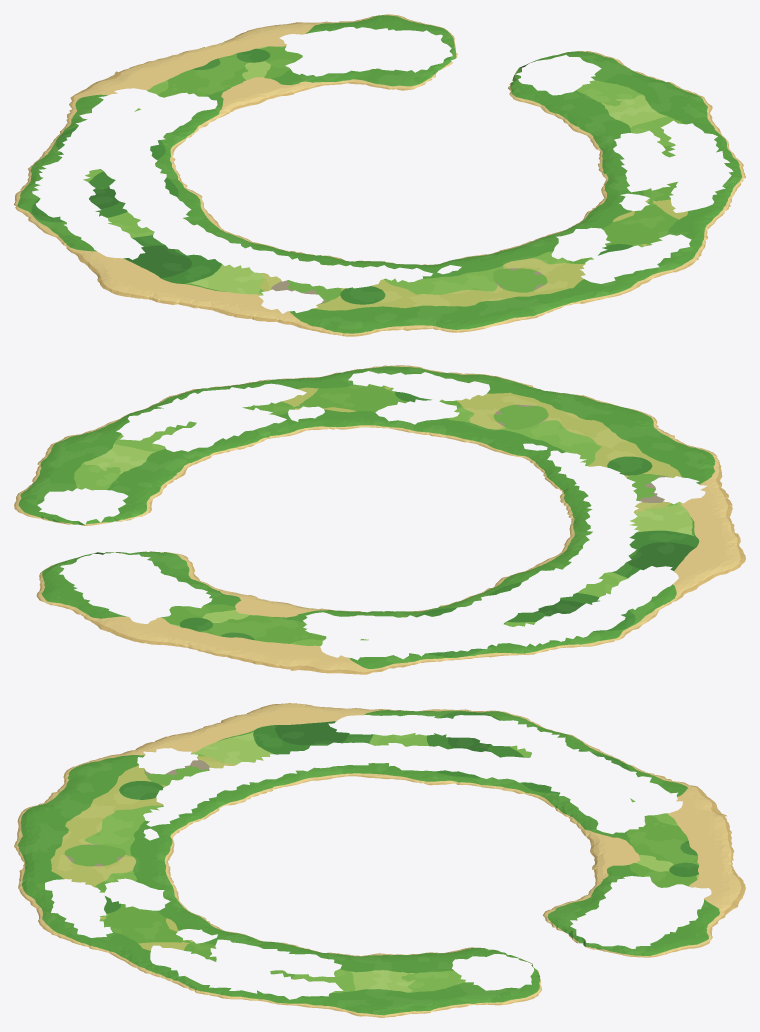
The model's file is Isl-atoll2-Ground.fbx.
The picture shows the model from 3 angles, top to bottom: view 1: azimuth 30°, elevation 25°; view 2: azimuth 150°, elevation 25°; view 3: azimuth 270°, elevation 25°; orthographic projection.
Parts seen in each view (by area): view 1: Isl-atoll2-Ground-c11, Isl-atoll2-Ground-c21, Isl-atoll2-Ground-c22, Isl-atoll2-Ground-c12, Isl-atoll2-Ground-c01, Isl-atoll2-Ground-c10, Isl-atoll2-Ground-c02, Isl-atoll2-Ground-c20; view 2: Isl-atoll2-Ground-c11, Isl-atoll2-Ground-c21, Isl-atoll2-Ground-c22, Isl-atoll2-Ground-c12, Isl-atoll2-Ground-c01, Isl-atoll2-Ground-c02, Isl-atoll2-Ground-c23, Isl-atoll2-Ground-c10; view 3: Isl-atoll2-Ground-c11, Isl-atoll2-Ground-c21, Isl-atoll2-Ground-c22, Isl-atoll2-Ground-c12, Isl-atoll2-Ground-c01, Isl-atoll2-Ground-c10, Isl-atoll2-Ground-c23, Isl-atoll2-Ground-c20, Isl-atoll2-Ground-c02, Isl-atoll2-Ground-c32.
Part boxes in pixels (x1=…): Isl-atoll2-Ground-c11: x1=83, y1=217, x2=555, y2=336; Isl-atoll2-Ground-c21: x1=493, y1=99, x2=745, y2=298; Isl-atoll2-Ground-c22: x1=215, y1=14, x2=686, y2=129; Isl-atoll2-Ground-c12: x1=15, y1=46, x2=277, y2=244; Isl-atoll2-Ground-c01: x1=71, y1=246, x2=160, y2=302; Isl-atoll2-Ground-c10: x1=441, y1=298, x2=564, y2=332; Isl-atoll2-Ground-c02: x1=14, y1=195, x2=88, y2=252; Isl-atoll2-Ground-c20: x1=556, y1=278, x2=651, y2=305; Isl-atoll2-Ground-c11: x1=475, y1=393, x2=740, y2=592; Isl-atoll2-Ground-c21: x1=69, y1=365, x2=538, y2=475; Isl-atoll2-Ground-c22: x1=14, y1=445, x2=260, y2=644; Isl-atoll2-Ground-c12: x1=195, y1=563, x2=666, y2=674; Isl-atoll2-Ground-c01: x1=667, y1=539, x2=745, y2=597; Isl-atoll2-Ground-c02: x1=593, y1=590, x2=681, y2=645; Isl-atoll2-Ground-c23: x1=90, y1=620, x2=197, y2=648; Isl-atoll2-Ground-c10: x1=539, y1=390, x2=657, y2=424; Isl-atoll2-Ground-c11: x1=32, y1=712, x2=382, y2=862; Isl-atoll2-Ground-c21: x1=32, y1=859, x2=383, y2=1008; Isl-atoll2-Ground-c22: x1=379, y1=859, x2=730, y2=1009; Isl-atoll2-Ground-c12: x1=380, y1=712, x2=728, y2=862; Isl-atoll2-Ground-c01: x1=234, y1=703, x2=381, y2=716; Isl-atoll2-Ground-c10: x1=14, y1=806, x2=40, y2=862; Isl-atoll2-Ground-c23: x1=722, y1=860, x2=745, y2=914; Isl-atoll2-Ground-c20: x1=18, y1=859, x2=40, y2=907; Isl-atoll2-Ground-c02: x1=380, y1=709, x2=522, y2=716; Isl-atoll2-Ground-c32: x1=380, y1=1004, x2=449, y2=1017.
Size of the model in its own units: 113 by 0.4892 by 111.
